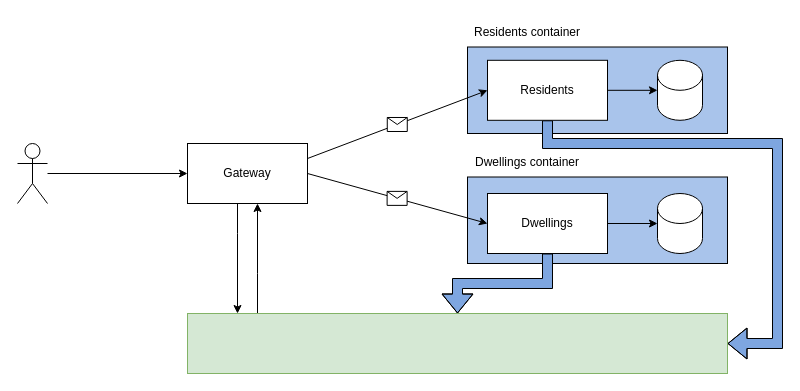
The diagram is 800 pixels wide and 391 high, and some of its shapes have lost their labels. Here are the shapes that lost their labels. From the top down, the box of each, then its label:
(16, 142, 48, 204): Actor
(186, 312, 728, 374): Registry
